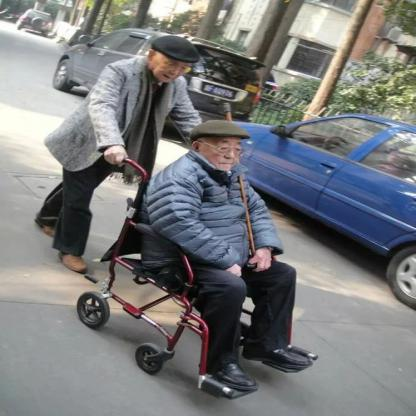wheelchair: (73, 118, 320, 404)
